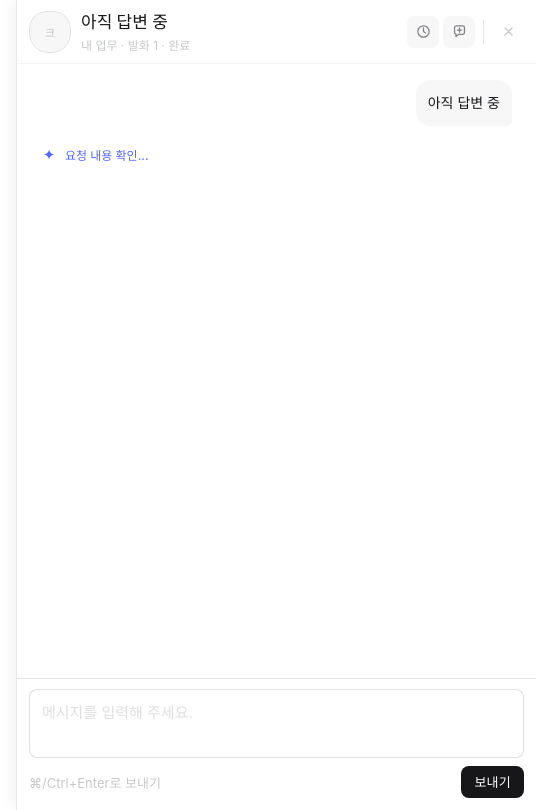
Test: ChatDrawer session switcher › keeps unanswered and empty conversations out of history
Step 1. Click the button named "대화 히스토리" → x=423, y=32, box [407,16,439,48]
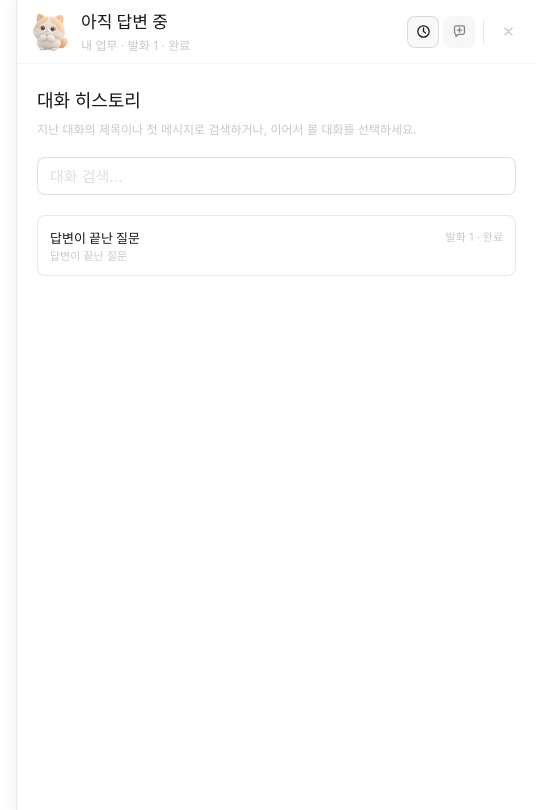
Expected: the button "답변이 끝난 질문 발화 1 · 완료 답변이 끝난 질문" is shown, [37,215,516,276]
